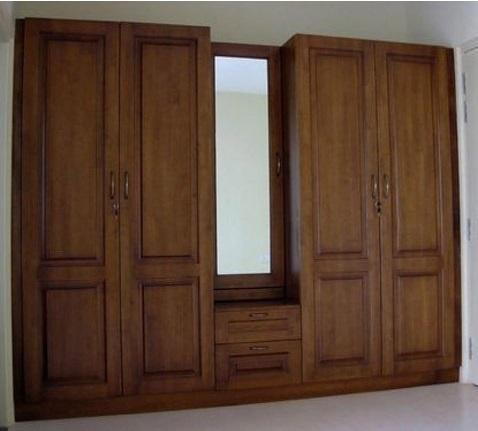Armario: (17, 7, 459, 410)
